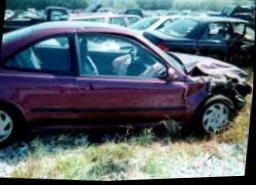Bonnet: (169, 51, 251, 86)
Bumper: (234, 89, 250, 122)
Fender: (180, 81, 248, 122)
